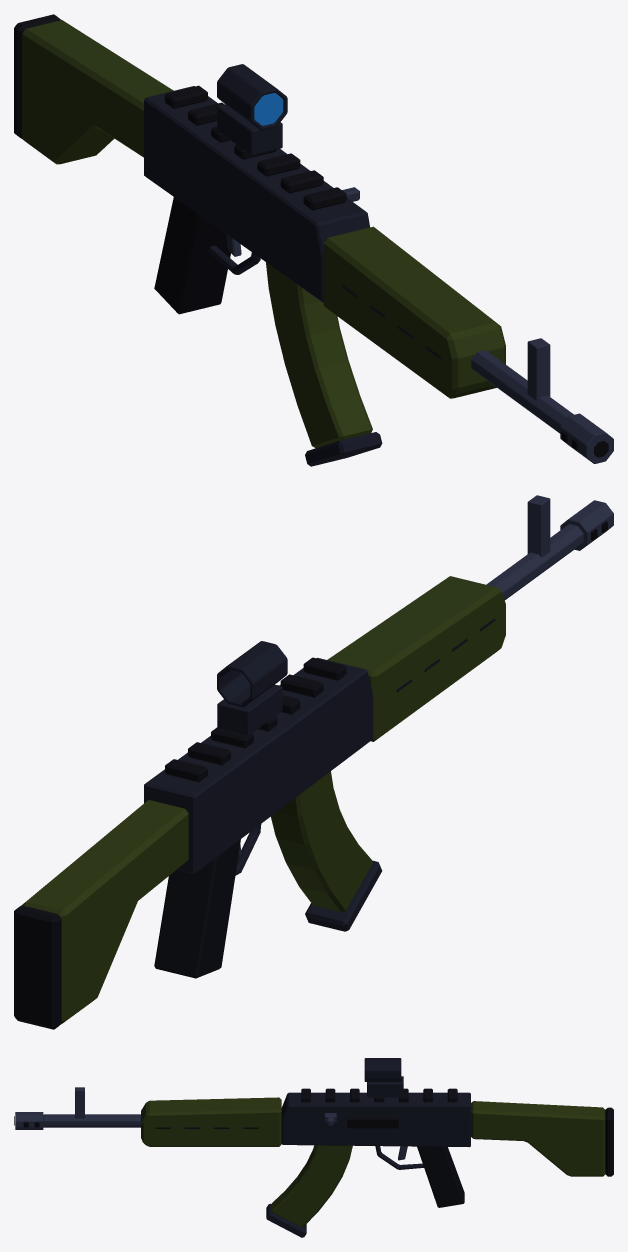
The model's file is myw_assaultrifle.obj.
3 views of the same model, one above another, from view 1: azimuth 30°, elevation 25°; view 2: azimuth 150°, elevation 25°; view 3: azimuth 270°, elevation 25° (orthographic). The views are drawn at different scales.
Visible parts, largest first — view 1: Furniture, Body, Mag, Barrel, Sight; view 2: Furniture, Body, Mag, Sight, Barrel; view 3: Furniture, Body, Mag, Barrel, Sight.
Boxes of the visible parts, box(x1,y1,x2,y2) form: Furniture: box(14, 14, 505, 398); Body: box(144, 85, 370, 314); Mag: box(266, 262, 382, 466); Barrel: box(471, 338, 613, 463); Sight: box(217, 64, 287, 155); Furniture: box(14, 576, 505, 1029); Body: box(144, 657, 373, 978); Mag: box(270, 771, 382, 931); Sight: box(217, 641, 287, 735); Barrel: box(486, 495, 613, 600); Furniture: box(141, 1097, 613, 1176); Body: box(281, 1088, 470, 1207); Mag: box(266, 1145, 352, 1237); Barrel: box(14, 1087, 140, 1129); Sight: box(364, 1058, 403, 1097).
Size of the model in its own units: 0.4225 by 1.57 by 4.91.
